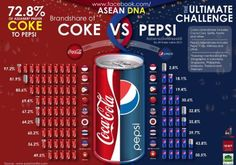pepsi: (119, 78, 139, 114)
